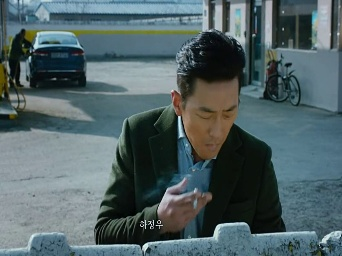smoke: (192, 186, 198, 210)
